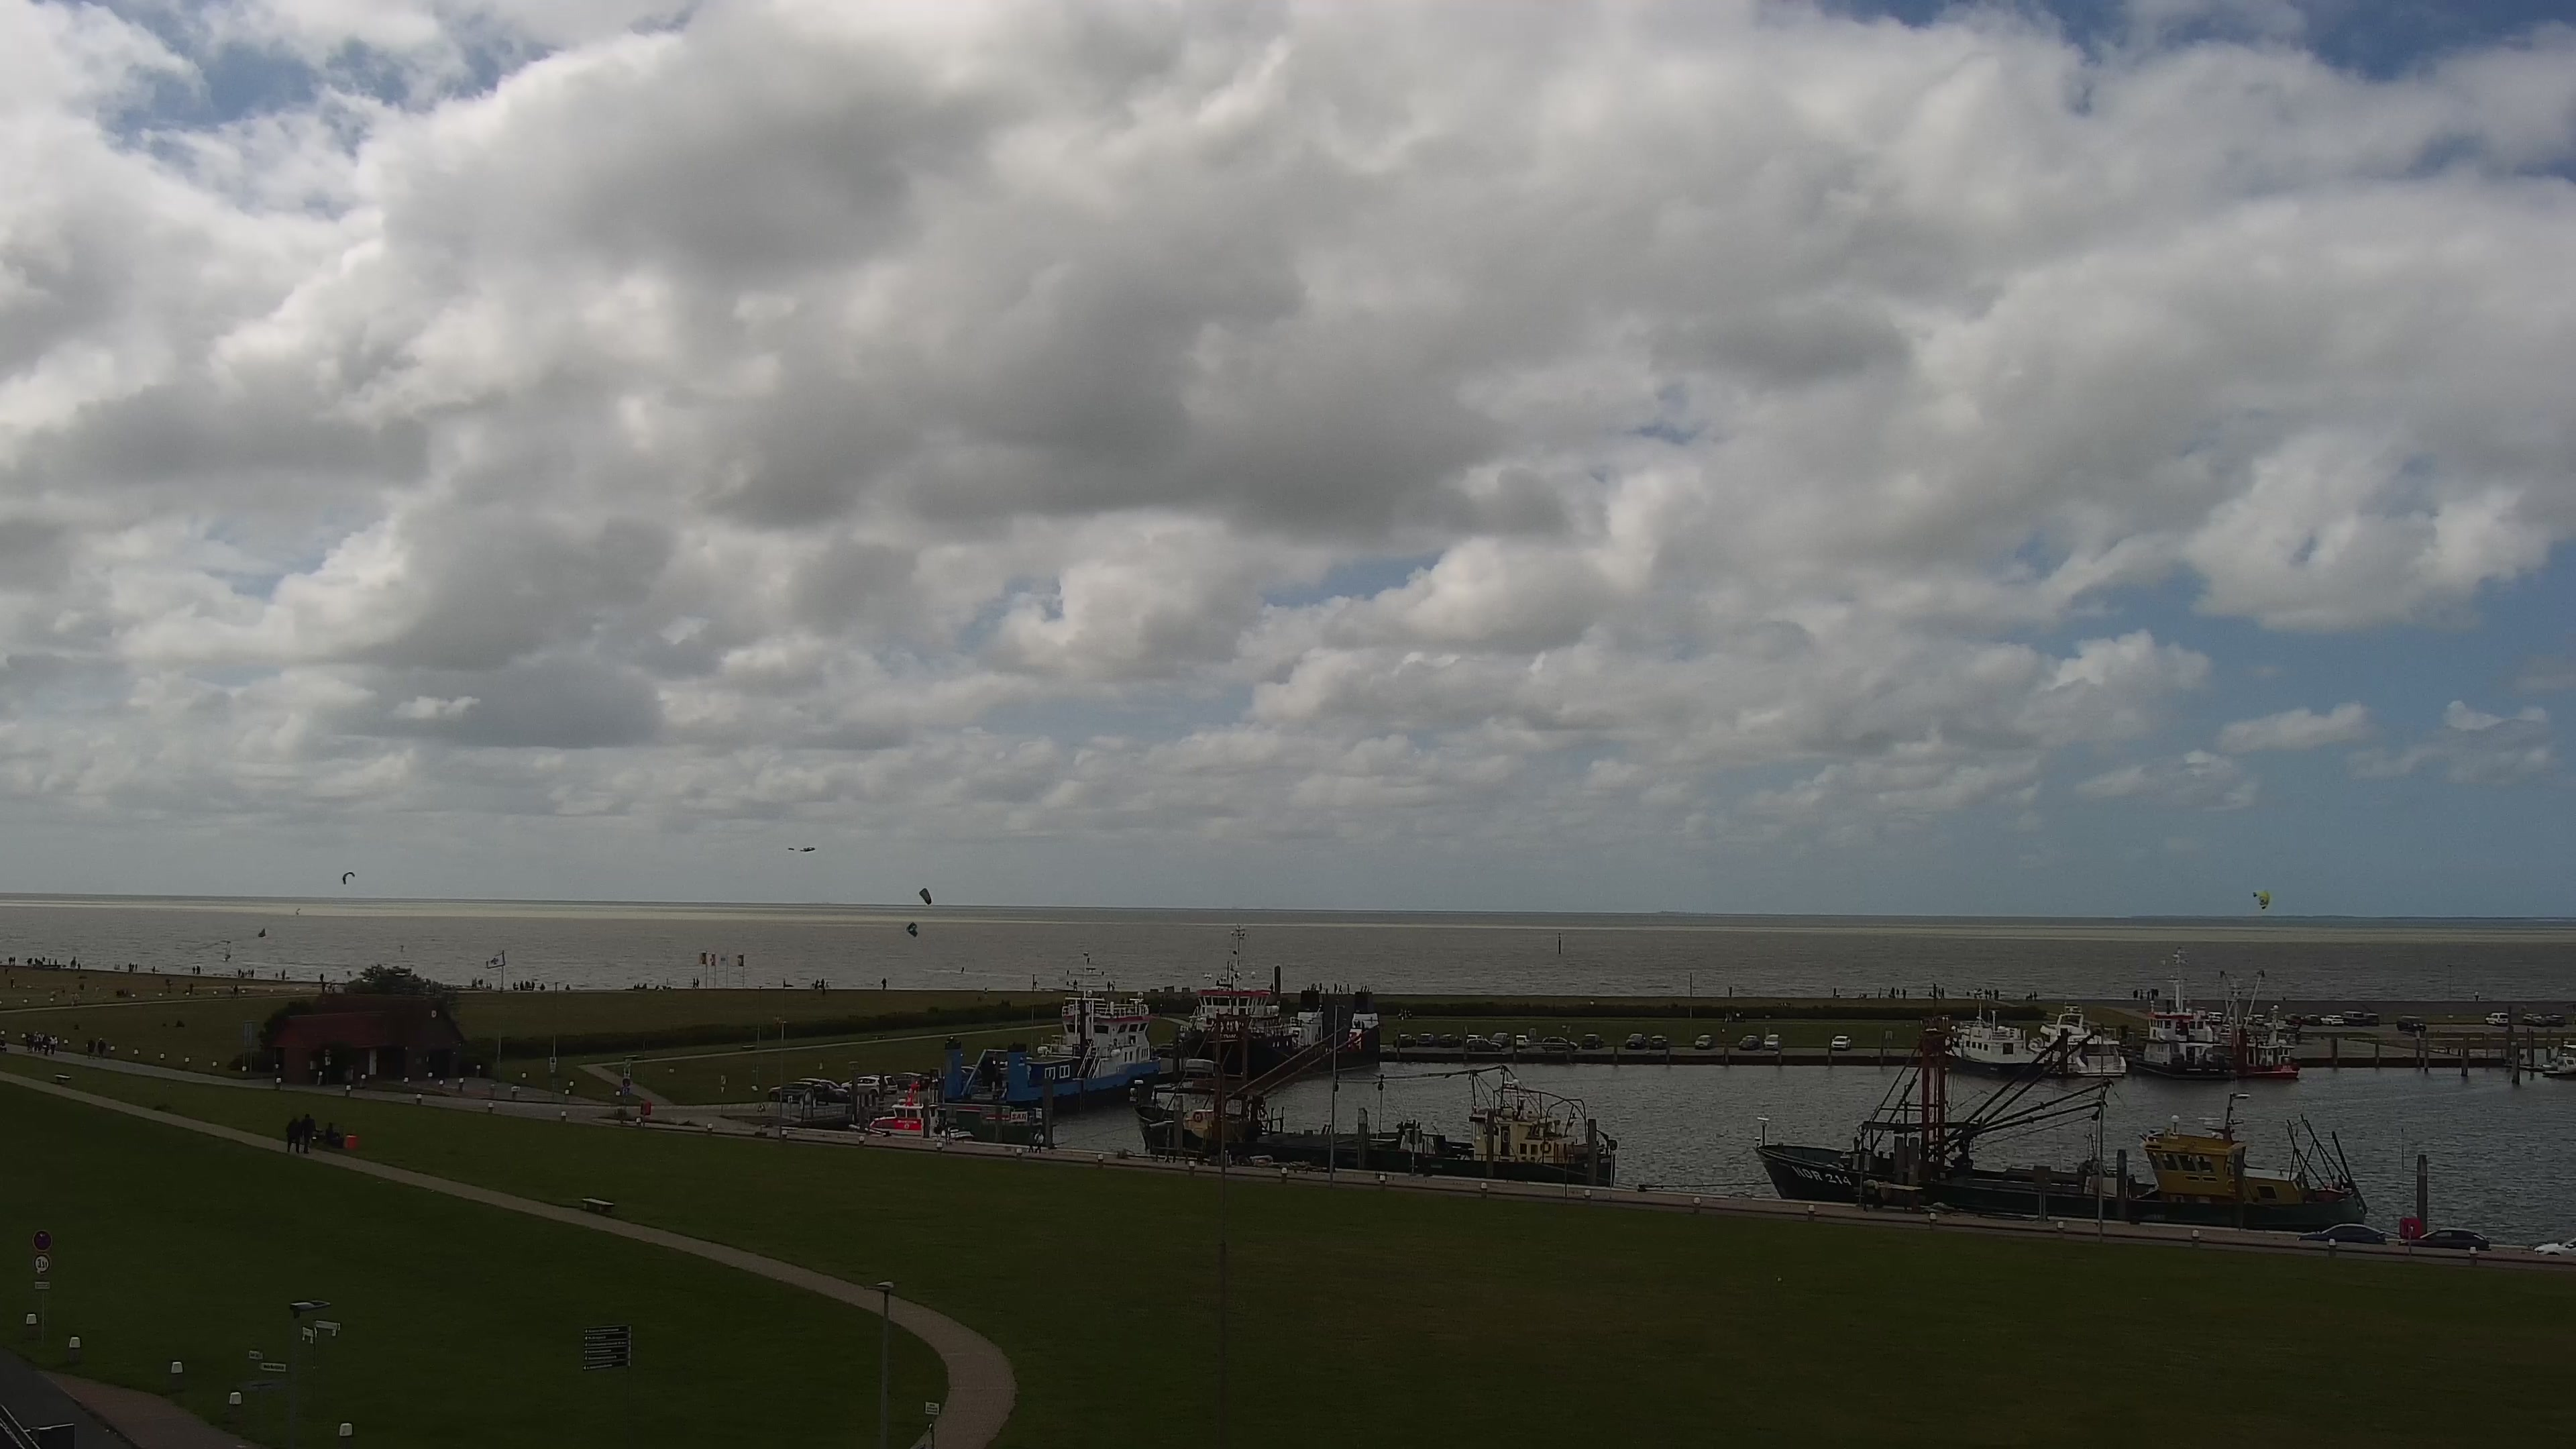human: (301, 1113, 316, 1154), (286, 1116, 301, 1154), (325, 1121, 341, 1141), (1033, 1128, 1044, 1154), (85, 1038, 95, 1059), (1026, 1130, 1035, 1153), (49, 1034, 58, 1055), (25, 1032, 34, 1053), (97, 1036, 105, 1059), (42, 1032, 50, 1055), (33, 1031, 41, 1053), (1, 1030, 7, 1051), (2146, 986, 2155, 1000), (983, 986, 988, 1002), (2139, 988, 2149, 1000), (814, 977, 820, 989), (74, 992, 79, 1006), (233, 983, 239, 998), (229, 984, 234, 998), (519, 980, 525, 991), (478, 978, 484, 988), (881, 977, 887, 990), (2133, 988, 2139, 1000), (189, 981, 194, 993), (10, 977, 15, 989), (471, 976, 476, 988), (691, 977, 696, 989), (1073, 978, 1078, 991), (1338, 983, 1342, 994), (1332, 981, 1338, 995), (1902, 987, 1907, 999), (1895, 987, 1900, 999), (1877, 986, 1882, 998), (1994, 989, 1999, 1001), (1973, 987, 1978, 1000), (1941, 987, 1945, 999), (2026, 991, 2033, 1000), (128, 961, 132, 971), (319, 972, 324, 982), (281, 969, 286, 981), (531, 980, 535, 991), (525, 979, 531, 991), (1110, 979, 1116, 991), (1106, 979, 1110, 991), (2033, 989, 2038, 1000), (1988, 989, 1993, 1000), (1984, 988, 1988, 1000), (2154, 988, 2159, 1000), (641, 982, 647, 989), (820, 977, 825, 991), (695, 975, 699, 988), (192, 965, 196, 975), (565, 983, 570, 990), (539, 982, 545, 991), (513, 981, 519, 991), (1324, 986, 1329, 994), (1346, 982, 1350, 994), (1318, 981, 1322, 994), (1729, 985, 1733, 998), (1978, 987, 1982, 999), (1937, 987, 1941, 1000), (8, 955, 12, 965), (321, 981, 326, 991), (251, 967, 255, 978), (655, 984, 660, 991), (1833, 986, 1837, 997), (196, 964, 201, 973), (131, 962, 135, 971), (77, 963, 81, 971), (5, 965, 9, 975), (12, 956, 15, 965), (633, 983, 637, 990), (637, 981, 640, 988), (821, 985, 824, 995), (961, 966, 964, 974), (134, 963, 138, 970), (237, 969, 241, 977), (485, 981, 489, 989), (489, 982, 492, 989), (241, 971, 245, 977)
land: (2294, 1222, 2387, 1244), (2398, 1228, 2490, 1250), (796, 1077, 850, 1103), (767, 1081, 822, 1104), (841, 1075, 888, 1096), (2532, 1236, 2575, 1256), (867, 1072, 898, 1096), (891, 1071, 925, 1090), (1541, 1036, 1578, 1051), (1465, 1038, 1502, 1052), (2341, 1009, 2365, 1027), (2396, 1015, 2426, 1031), (1391, 1034, 1415, 1049), (1580, 1032, 1604, 1050), (2484, 1012, 2510, 1027), (1625, 1032, 1646, 1049), (1737, 1034, 1760, 1051), (1437, 1033, 1461, 1048), (1762, 1033, 1782, 1051), (1489, 1031, 1510, 1046), (1694, 1033, 1712, 1049), (1831, 1035, 1851, 1051), (2319, 1014, 2343, 1026), (2522, 1014, 2545, 1026), (1415, 1032, 1436, 1047), (2544, 1013, 2566, 1026), (1514, 1034, 1532, 1049), (1648, 1034, 1667, 1049), (2362, 1012, 2379, 1026), (2300, 1013, 2321, 1025), (2284, 1014, 2302, 1026), (1464, 1034, 1483, 1043)
sea: (1752, 1014, 2366, 1232), (1128, 1013, 1618, 1185), (943, 950, 1161, 1116), (1153, 922, 1380, 1071), (2119, 945, 2237, 1075), (2211, 970, 2300, 1077), (1944, 998, 2044, 1073), (2028, 1004, 2127, 1079), (847, 1089, 973, 1142), (935, 1106, 1055, 1144), (2541, 1053, 2576, 1080), (224, 939, 231, 963)
